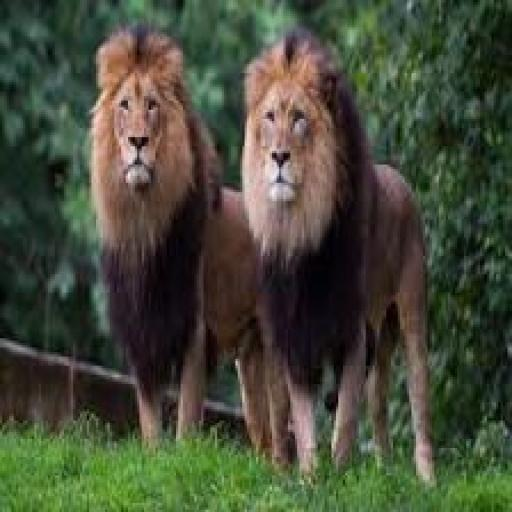lion: (247, 62, 412, 460), (71, 50, 234, 436)
